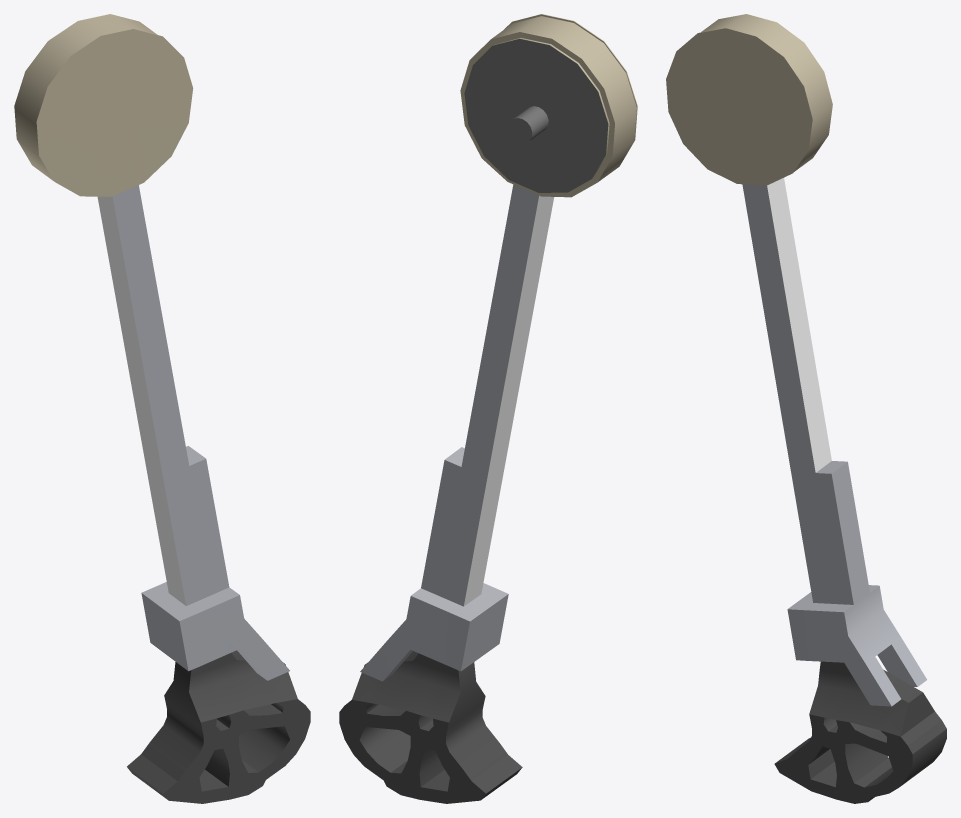
Rendered from SILVER2_TibiaFoot_Mirrored.fbx.
The picture shows the model from 3 angles, left to right: view 1: azimuth 30°, elevation 25°; view 2: azimuth 150°, elevation 25°; view 3: azimuth 330°, elevation 25°; orthographic projection. The views are drawn at different scales.
Visible parts, largest first — view 1: Tibia_Mirrored; view 2: Tibia_Mirrored; view 3: Tibia_Mirrored.
Boxes of the visible parts, x1=… form: Tibia_Mirrored: x1=14, y1=14, x2=310, y2=803; Tibia_Mirrored: x1=339, y1=14, x2=637, y2=803; Tibia_Mirrored: x1=666, y1=14, x2=946, y2=803.
Size of the model in its own units: 0.8838 by 2.48 by 0.2684.
Materials: 1 (1 with a texture image).
